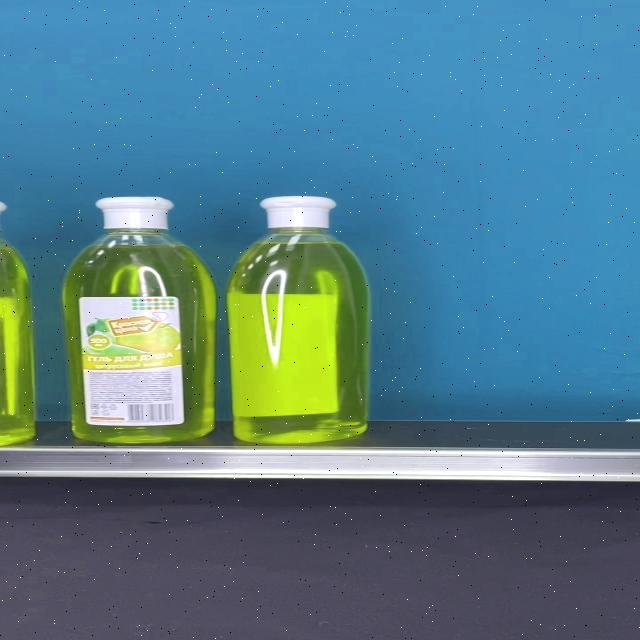Bottle: (62, 196, 215, 443), (228, 197, 368, 443)
Cap: (94, 196, 174, 229), (258, 197, 338, 229)
